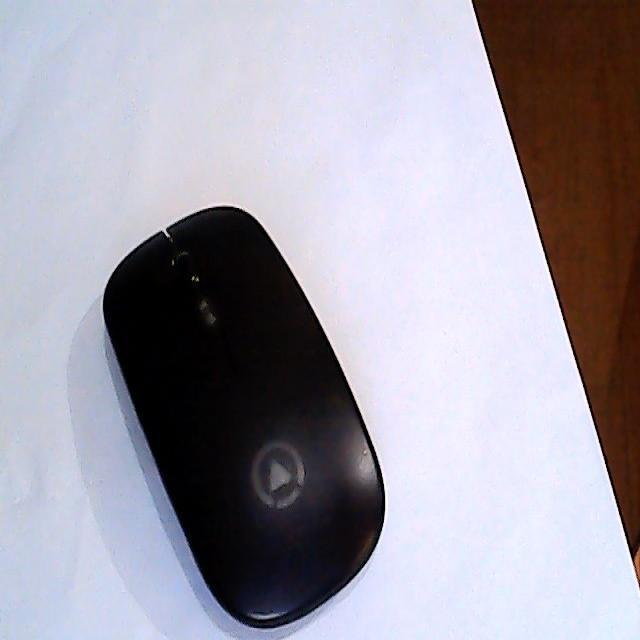Mouse: (101, 200, 387, 635)
